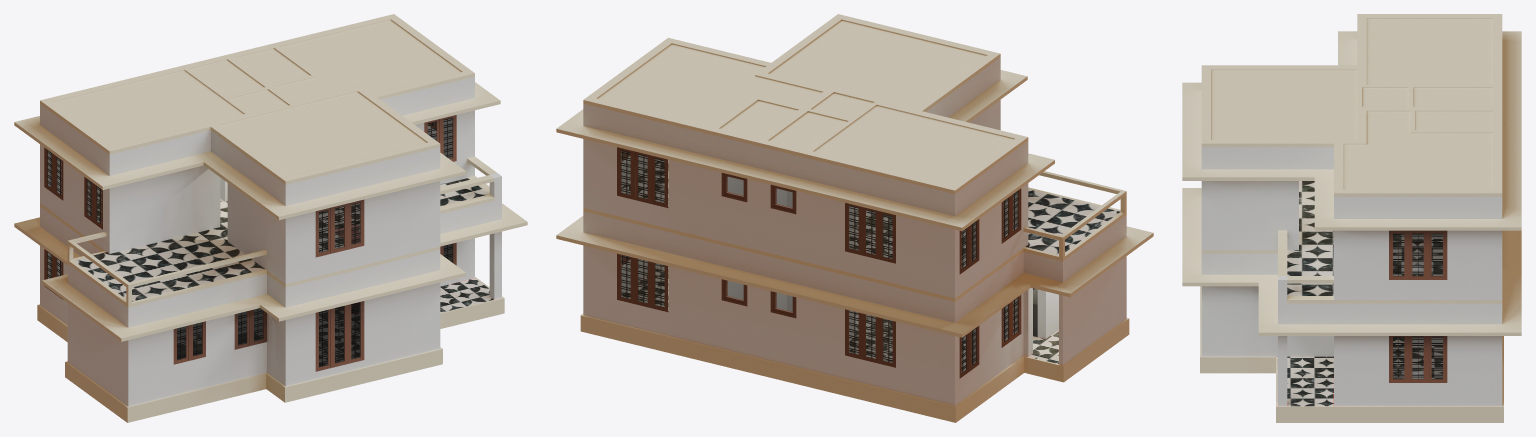
File: arch_lij.glb
The picture shows the model from 3 angles, left to right: view 1: azimuth 30°, elevation 25°; view 2: azimuth 150°, elevation 25°; view 3: azimuth 270°, elevation 25°; orthographic projection. The views are drawn at different scales.
Visible parts, largest first — view 1: roof_baked, walls_1ST_baked, walls_GND_baked, floor_1ST_baked, floor_GND_baked, windows_baked, glass_baked; view 2: roof_baked, walls_GND_baked, walls_1ST_baked, windows_baked, floor_GND_baked, floor_1ST_baked, glass_baked; view 3: roof_baked, walls_1ST_baked, walls_GND_baked, floor_GND_baked, floor_1ST_baked, windows_baked, glass_baked.
Part boxes in pixels (left/top/right/bottom): roof_baked: left=14, top=14, right=527, bottom=341; walls_1ST_baked: left=40, top=77, right=501, bottom=283; walls_GND_baked: left=40, top=199, right=501, bottom=406; floor_1ST_baked: left=40, top=156, right=496, bottom=307; floor_GND_baked: left=37, top=277, right=504, bottom=422; windows_baked: left=44, top=115, right=456, bottom=371; glass_baked: left=47, top=117, right=452, bottom=367; roof_baked: left=556, top=14, right=1153, bottom=337; walls_GND_baked: left=583, top=211, right=1126, bottom=405; walls_1ST_baked: left=583, top=57, right=1028, bottom=298; windows_baked: left=617, top=147, right=1021, bottom=378; floor_GND_baked: left=580, top=265, right=1129, bottom=422; floor_1ST_baked: left=583, top=160, right=1126, bottom=301; glass_baked: left=621, top=150, right=1018, bottom=372; roof_baked: left=1182, top=14, right=1521, bottom=335; walls_1ST_baked: left=1201, top=110, right=1502, bottom=303; walls_GND_baked: left=1201, top=253, right=1502, bottom=406; floor_GND_baked: left=1200, top=286, right=1503, bottom=422; floor_1ST_baked: left=1201, top=181, right=1502, bottom=303; windows_baked: left=1389, top=230, right=1447, bottom=382; glass_baked: left=1393, top=233, right=1442, bottom=379.
Size of the model in its own units: 13.08 by 6.49 by 8.72.
Materials: 9 (9 with a texture image).
